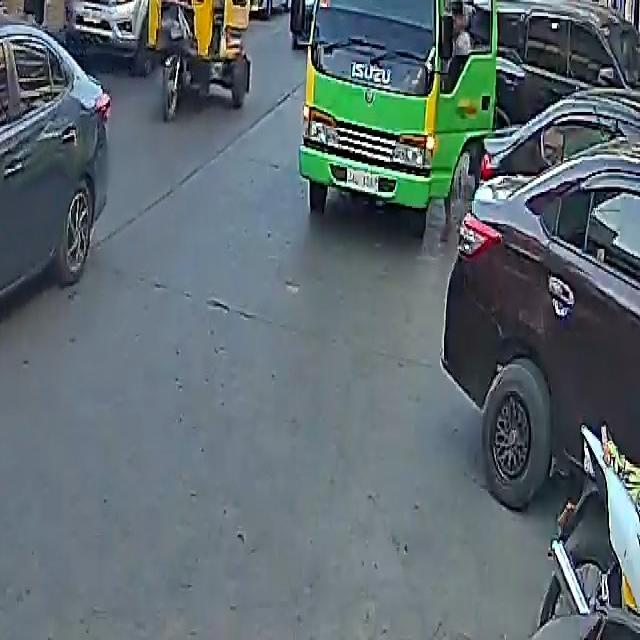car: (442, 89, 640, 521), (0, 7, 121, 421), (63, 0, 145, 73)
